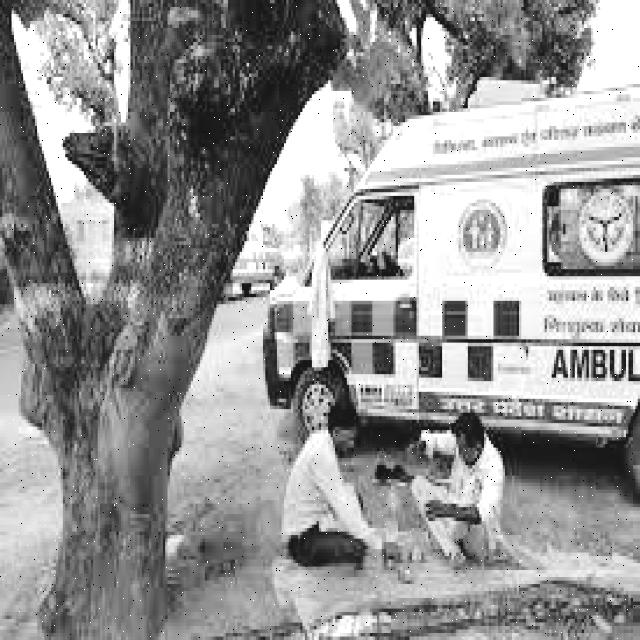Ambulance: (265, 80, 640, 420)
